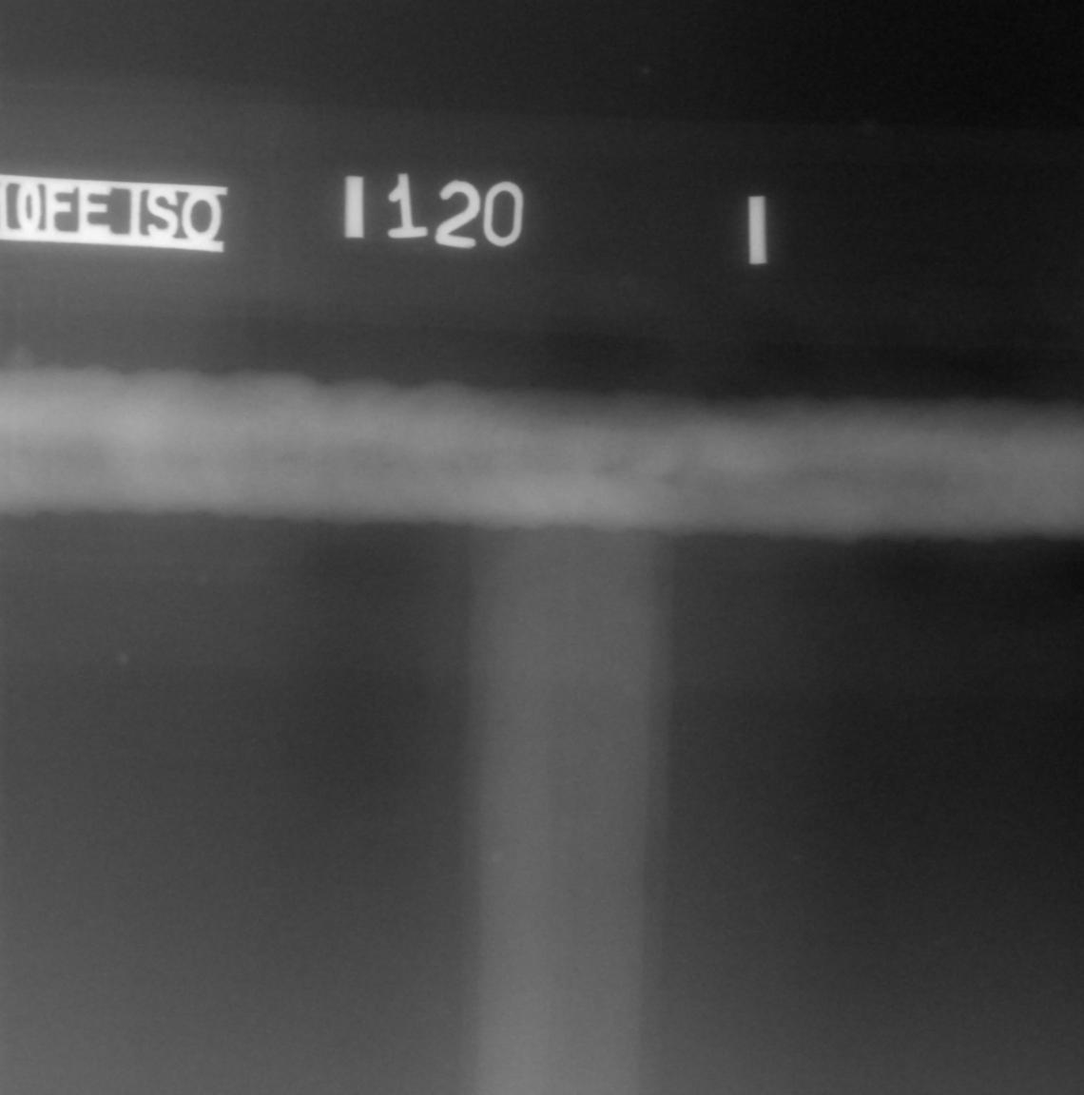Pore/Porosity: (982, 448, 988, 453), (583, 421, 589, 425), (366, 456, 371, 460)
